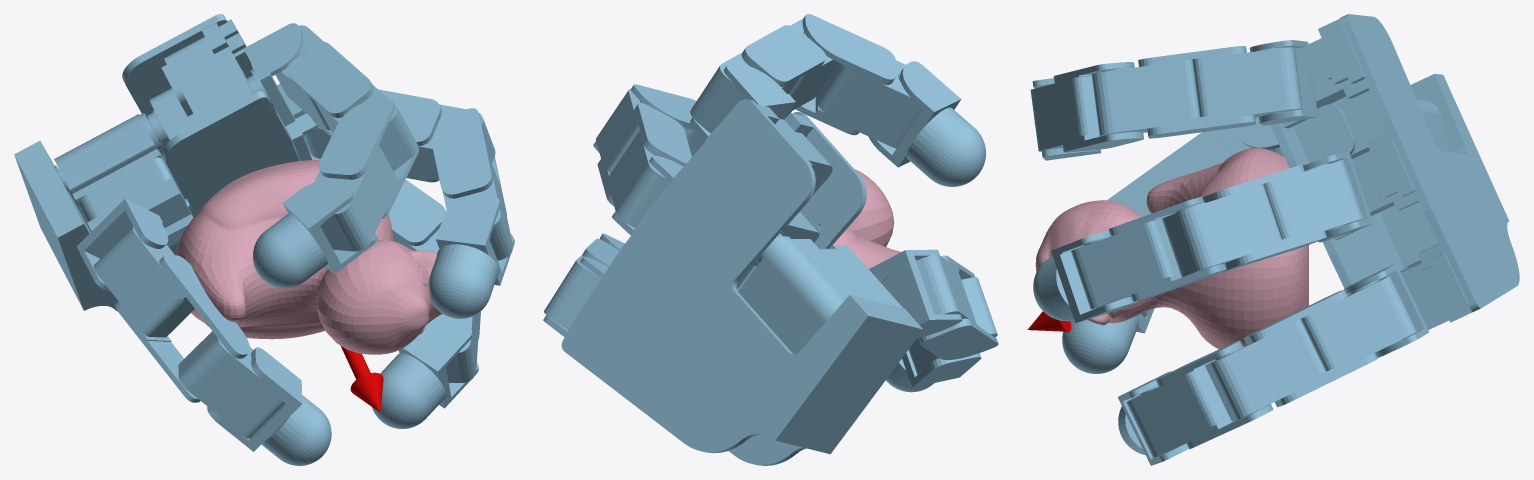
The picture shows the model from 3 angles, left to right: view 1: azimuth 30°, elevation 25°; view 2: azimuth 150°, elevation 25°; view 3: azimuth 270°, elevation 25°; orthographic projection. The views are drawn at different scales.
Visible parts, largest first — view 1: world, rubber_duck.stl; view 2: world, rubber_duck.stl; view 3: world, rubber_duck.stl.
Part boxes in pixels (x1=…): world: x1=14, y1=14, x2=514, y2=465; rubber_duck.stl: x1=176, y1=160, x2=441, y2=354; world: x1=543, y1=14, x2=998, y2=465; rubber_duck.stl: x1=830, y1=169, x2=900, y2=268; world: x1=1027, y1=14, x2=1519, y2=465; rubber_duck.stl: x1=1035, y1=147, x2=1308, y2=349.
Bounding box in the file's own units: 0.1653 × 0.151 × 0.1727.
